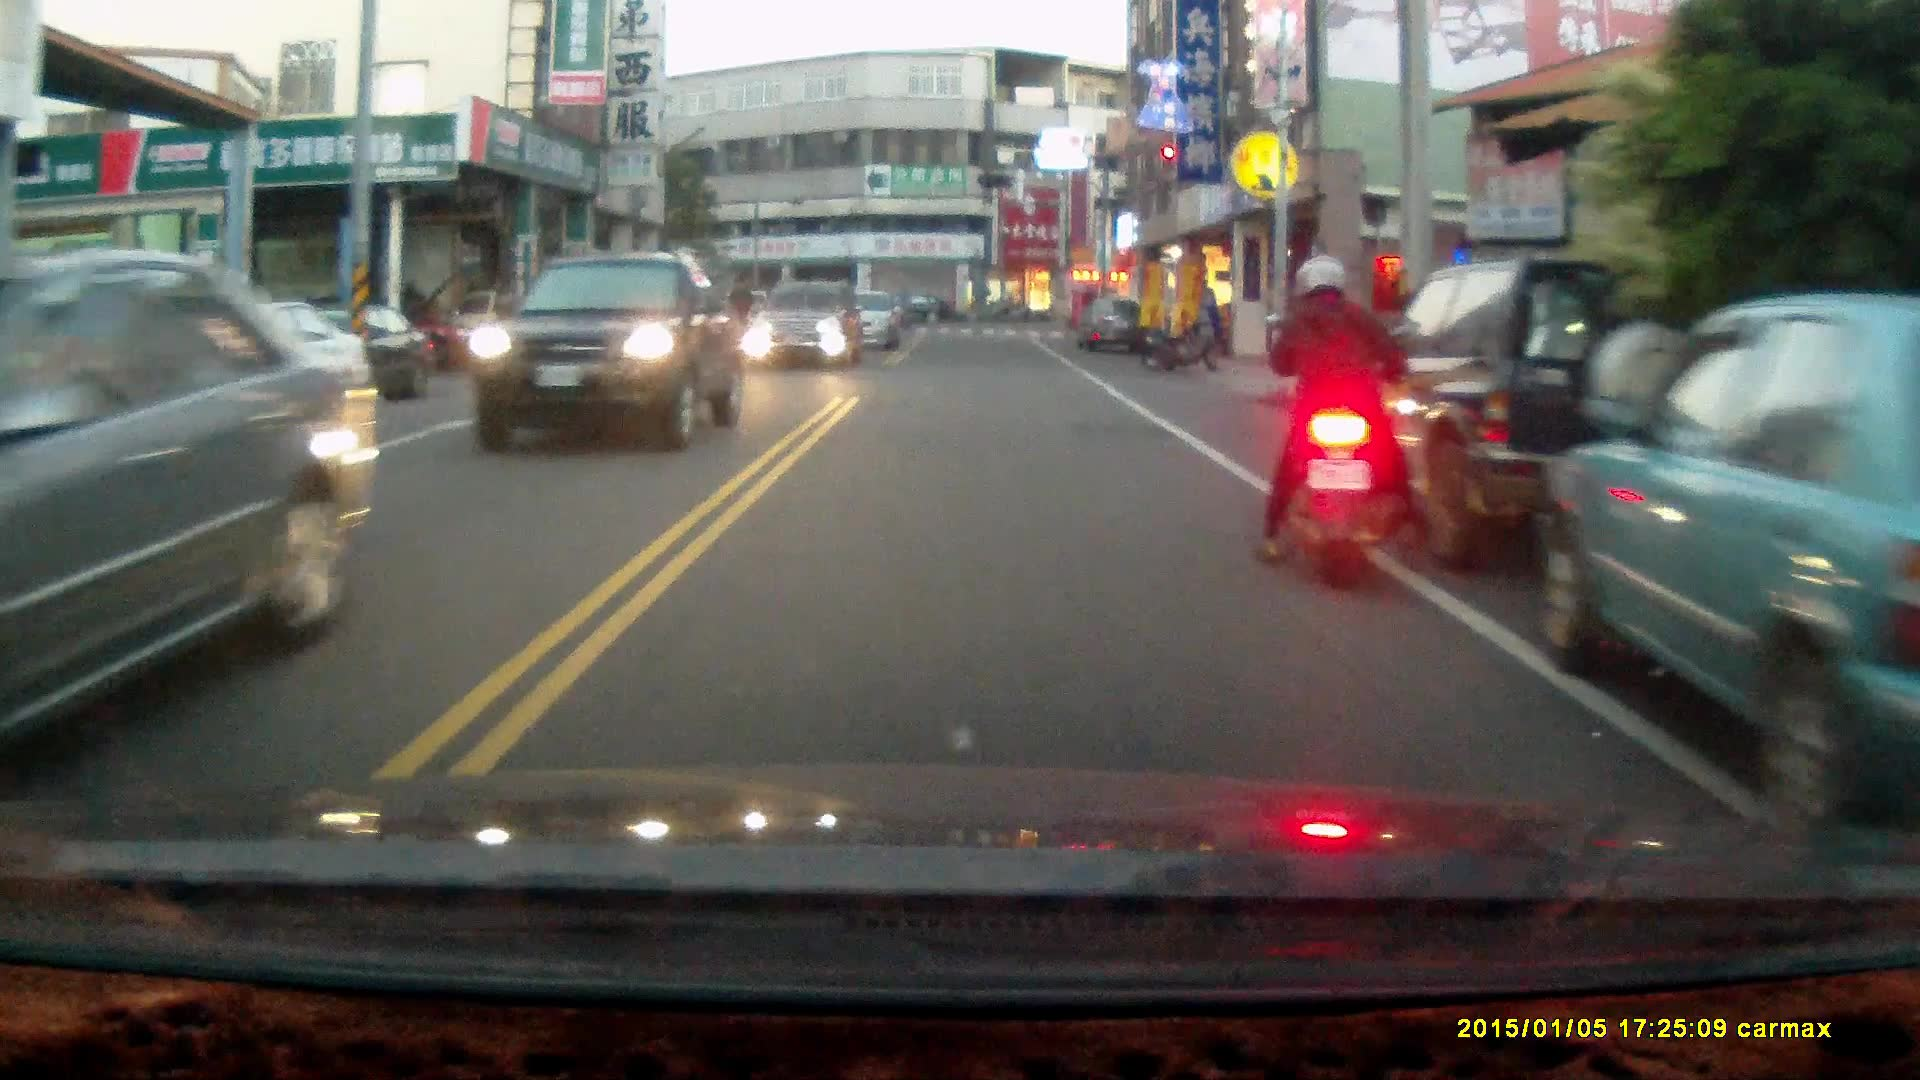rider: (1255, 251, 1428, 590)
vehicle: (1532, 290, 1920, 845), (1, 242, 388, 769), (1321, 253, 1764, 578), (471, 252, 741, 450), (103, 305, 381, 469), (739, 284, 874, 374), (1076, 296, 1150, 354)
